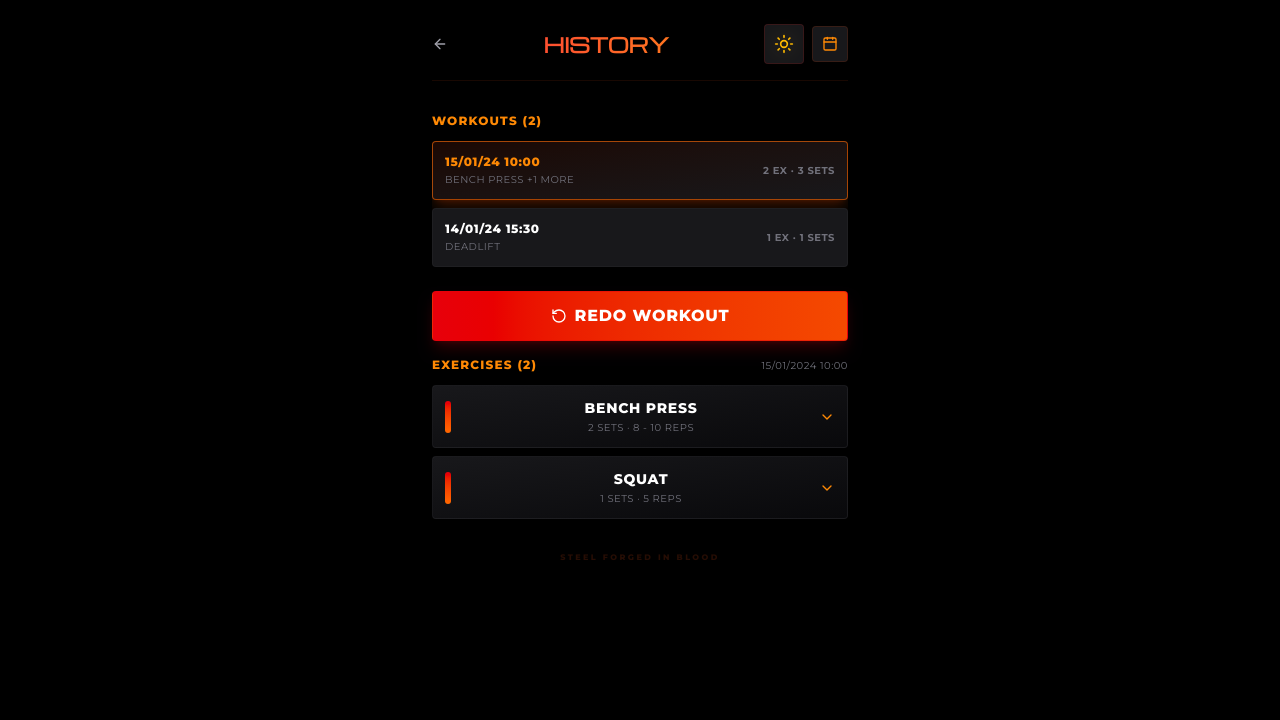
Test: HistoryPage › toggles calendar modal
Click the button named "show calendar". click: (830, 44)
box: [812,26,848,62]
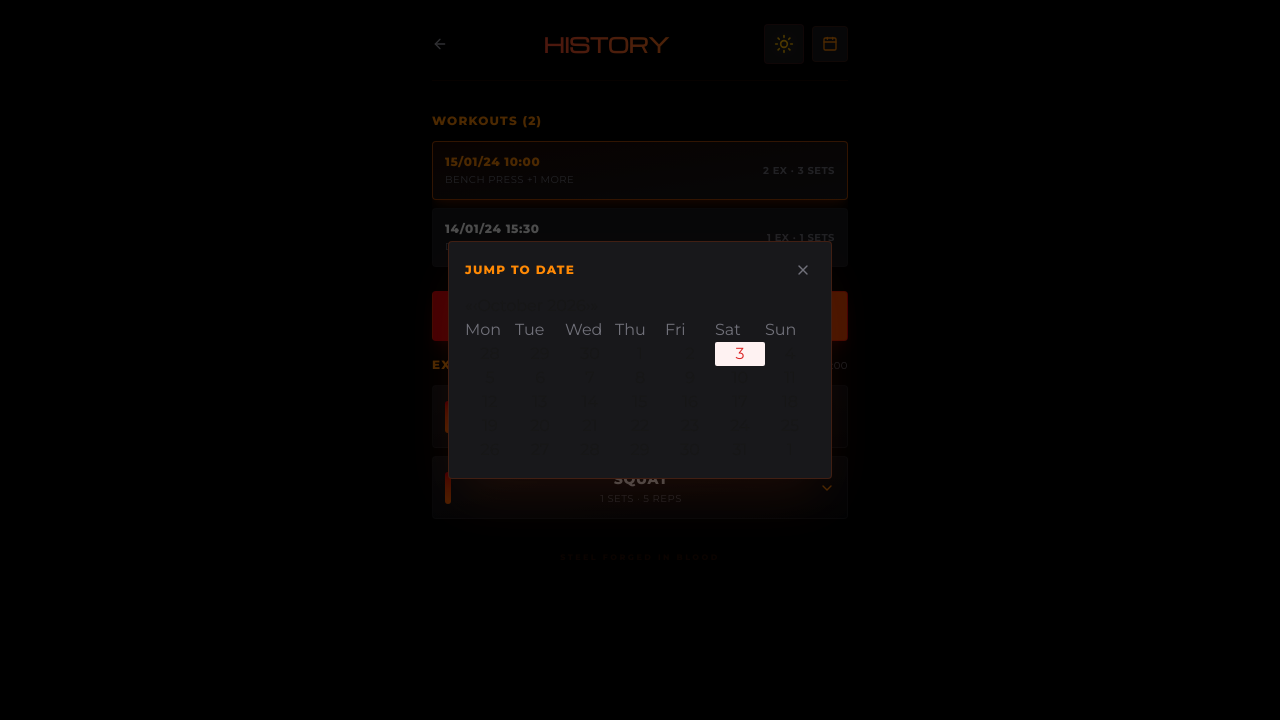
Expected: the button named "close calendar" is shown, [791,258,815,282]
